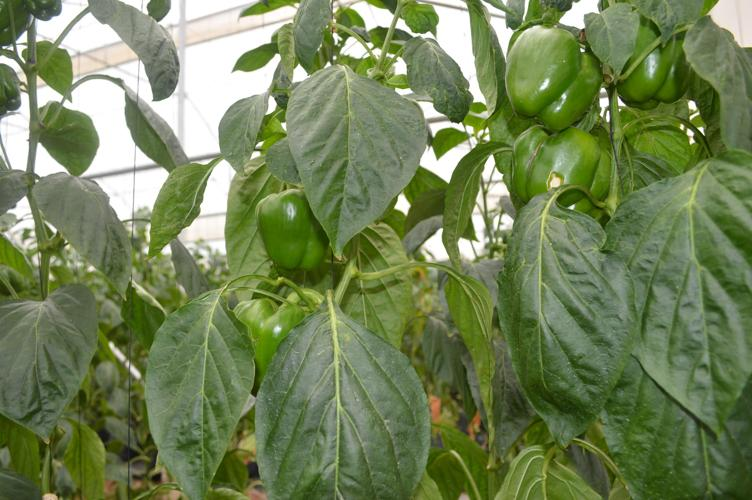BellPepper: (502, 29, 604, 128), (503, 123, 608, 216), (611, 20, 698, 114), (229, 300, 310, 390), (257, 192, 327, 272)
